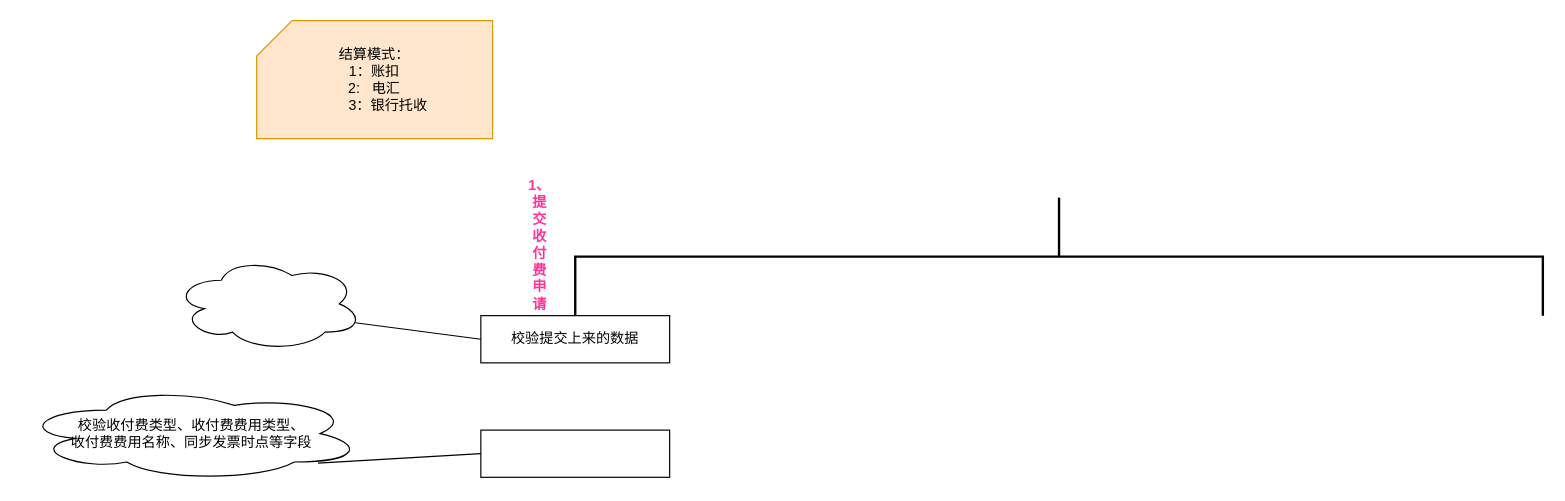
The diagram is 1565 pixels wide and 501 high, and some of its shapes have lost their labels. Each missing label, with the centre of its shape:
校验结算模式、金额: point 268,303
根据businessCode校验业务接入: point 575,453
